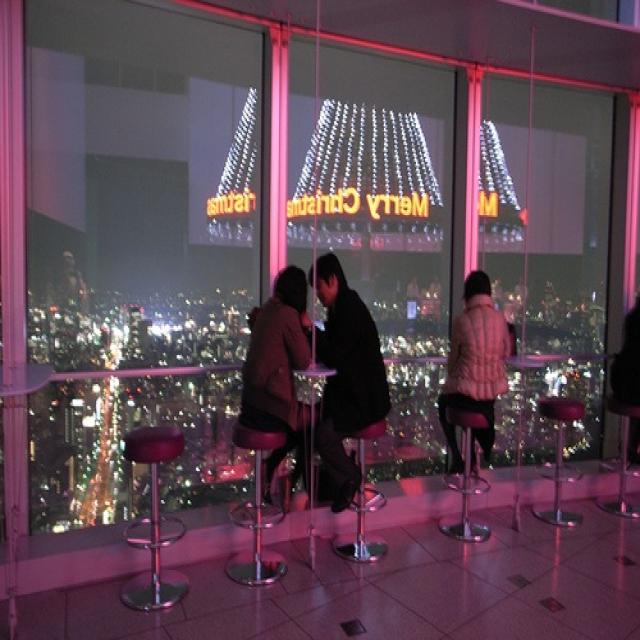person: (307, 240, 393, 513), (237, 266, 310, 513), (442, 269, 515, 484)
